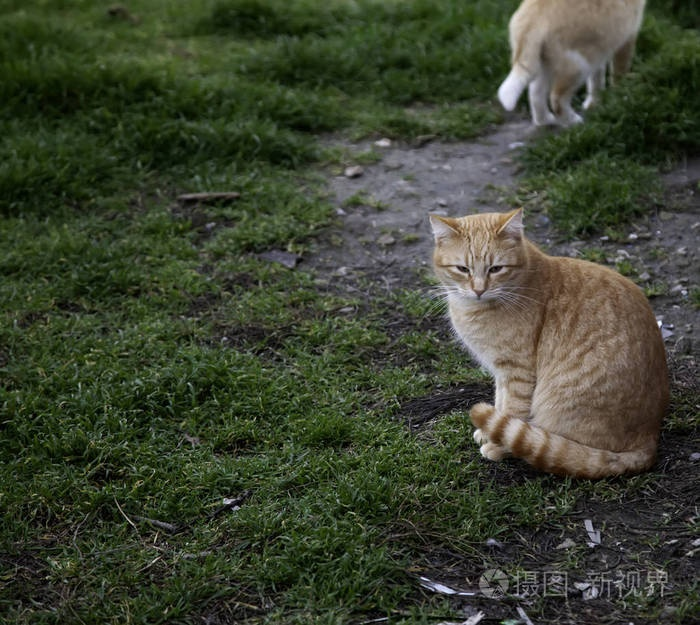cat: (429, 207, 669, 478), (498, 1, 647, 127)
